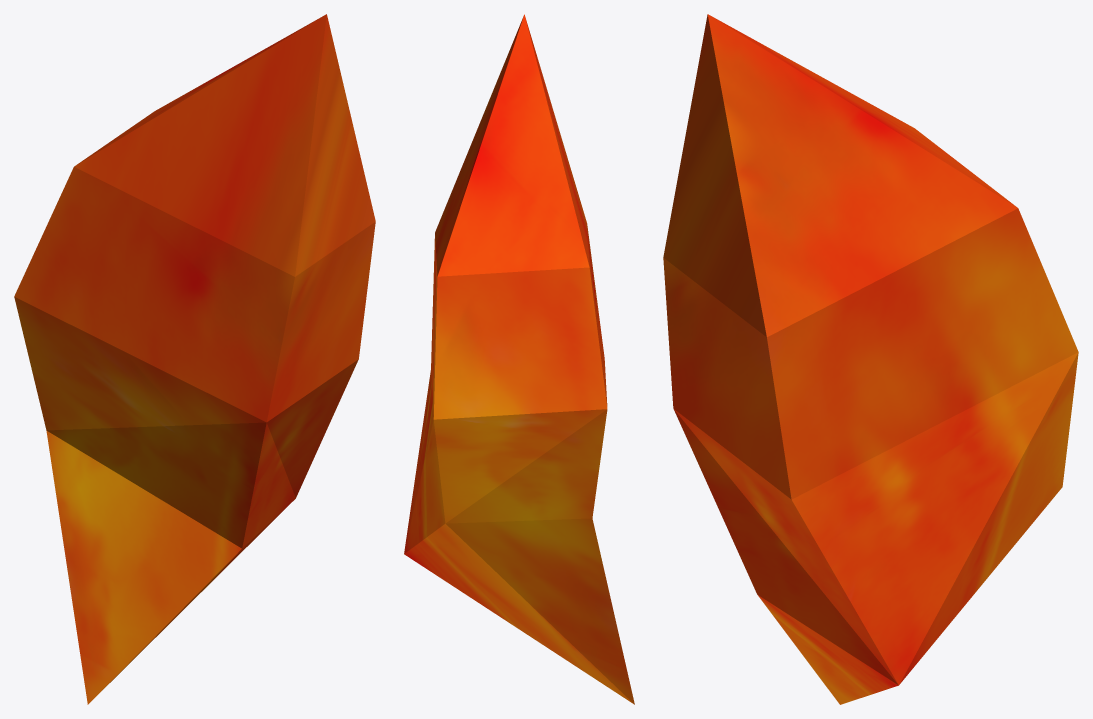
The model's file is Island_2_Leaf_3.gltf.
The picture shows the model from 3 angles, left to right: view 1: azimuth 30°, elevation 25°; view 2: azimuth 150°, elevation 25°; view 3: azimuth 270°, elevation 25°; orthographic projection. The views are drawn at different scales.
Visible parts, largest first — view 1: Island_2_Leaf_3; view 2: Island_2_Leaf_3; view 3: Island_2_Leaf_3.
Part boxes in pixels (x1,y1,x2,y2): Island_2_Leaf_3: (14,14,375,704); Island_2_Leaf_3: (404,14,634,704); Island_2_Leaf_3: (663,14,1078,704).
Size of the model in its own units: 0.4659 by 1.1 by 0.5245.
Materials: 1 (1 with a texture image).
